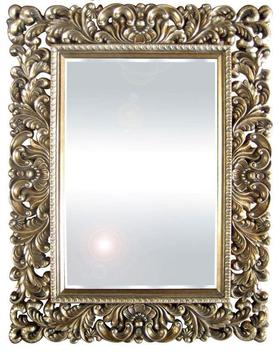Nonrec_Glass: (7, 2, 271, 329)
